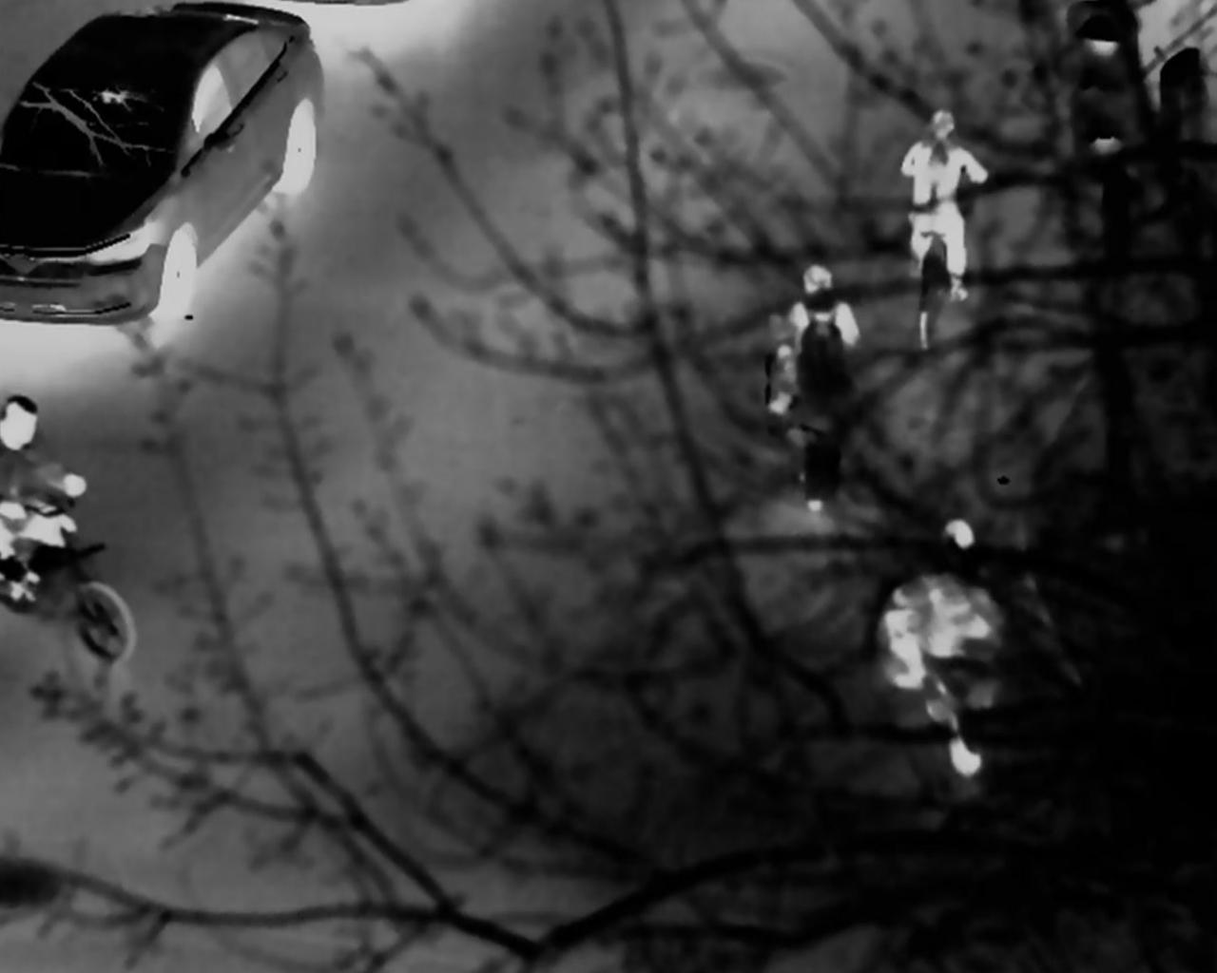person: (880, 519, 996, 694), (897, 113, 998, 293), (775, 267, 875, 429)
